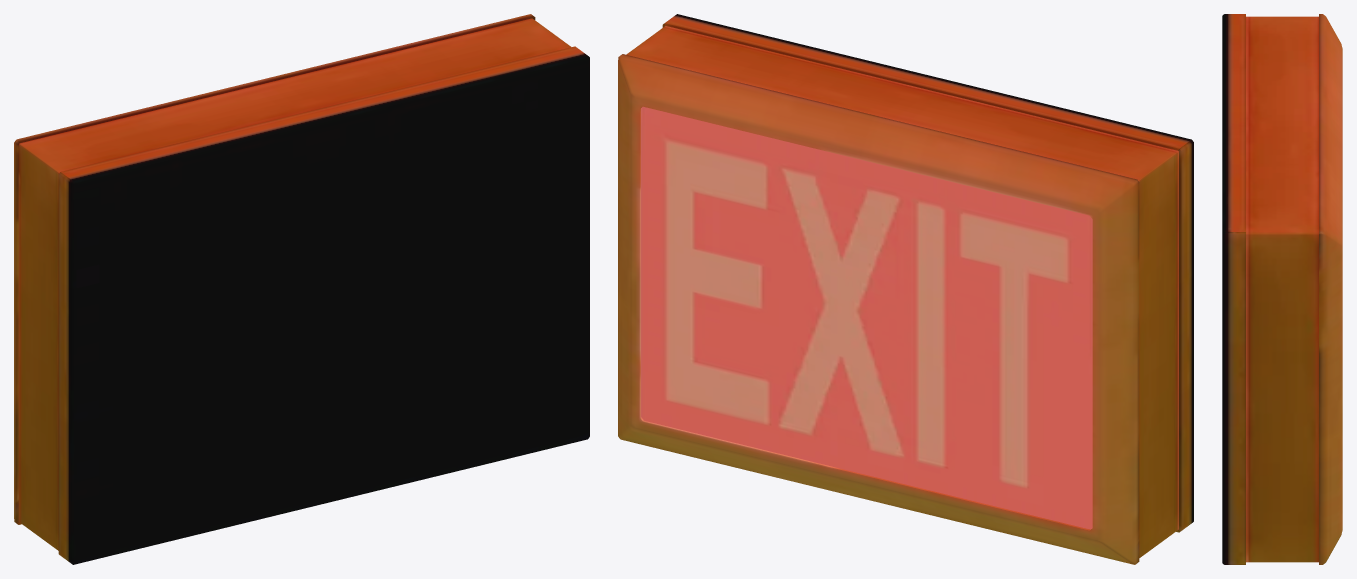
Rendered from exit-sign.glb.
The picture shows the model from 3 angles, left to right: view 1: azimuth 30°, elevation 25°; view 2: azimuth 150°, elevation 25°; view 3: azimuth 270°, elevation 25°; orthographic projection. The views are drawn at different scales.
Parts seen in each view (by area): view 1: body; view 2: glass, body; view 3: body.
Boxes of the visible parts, x1,y1,x2,y2 form: body: (14,14,589,564); glass: (641,106,1092,529); body: (618,14,1193,564); body: (1222,14,1342,564).
Bounding box in the file's own units: 0.2205 × 0.1559 × 0.051.
Materials: 2 (2 with a texture image).
